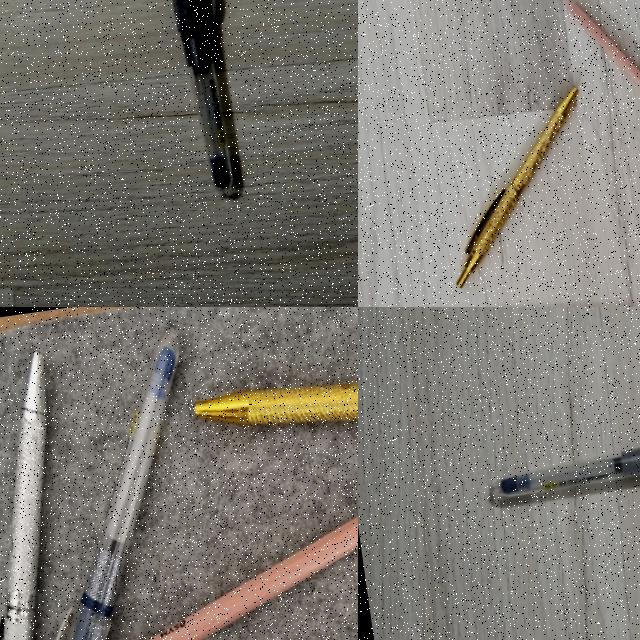pen: (56, 330, 177, 640), (491, 448, 639, 498)
pencil: (147, 515, 358, 640), (555, 0, 640, 232)
signature pen: (434, 90, 600, 285), (0, 353, 101, 640), (189, 348, 358, 456), (174, 0, 235, 197)
